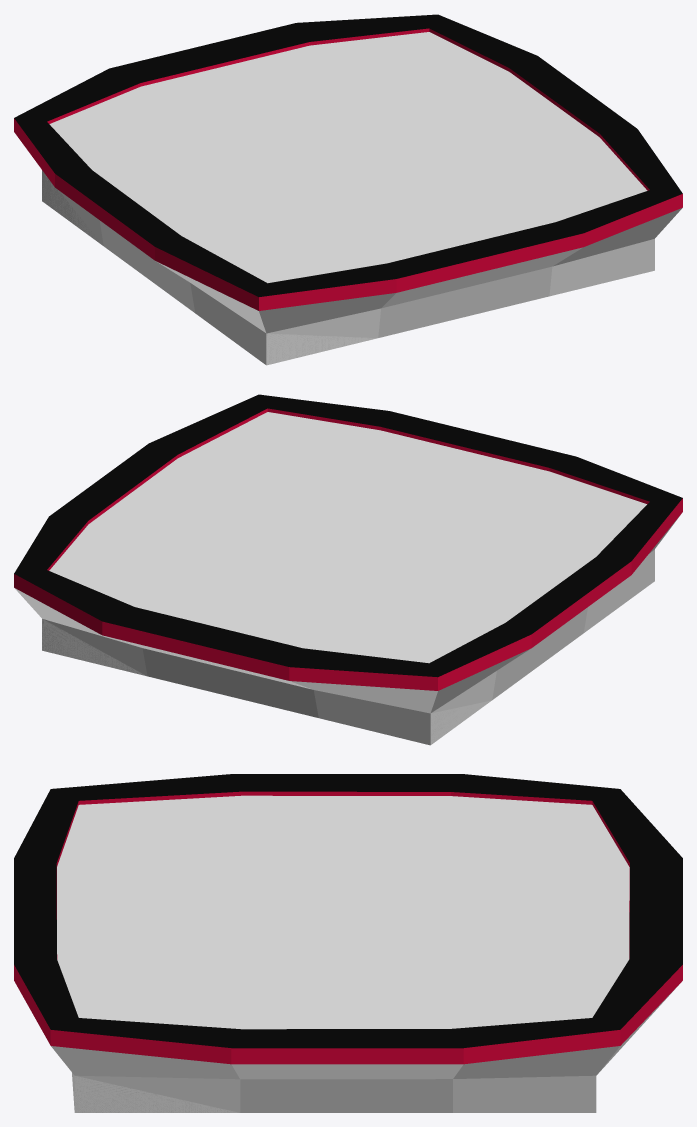
Rendered from playground.fbx.
3 views of the same model, one above another, from view 1: azimuth 30°, elevation 25°; view 2: azimuth 150°, elevation 25°; view 3: azimuth 270°, elevation 25° (orthographic). The views are drawn at different scales.
Parts seen in each view (by area): view 1: Cube.001; view 2: Cube.001; view 3: Cube.001.
Boxes of the visible parts, x1,y1,x2,y2 form: Cube.001: [14, 14, 682, 365]; Cube.001: [14, 394, 682, 745]; Cube.001: [14, 774, 682, 1112].
Bounding box in the file's own units: 916 × 145 × 944.
